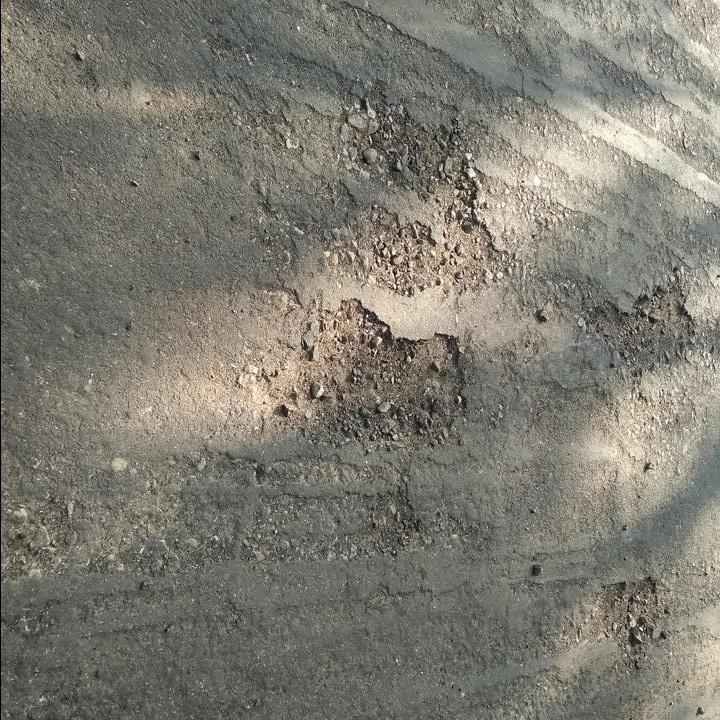pothole: (253, 293, 472, 456), (345, 93, 482, 215), (337, 203, 500, 300), (581, 273, 695, 381), (595, 571, 663, 672)
